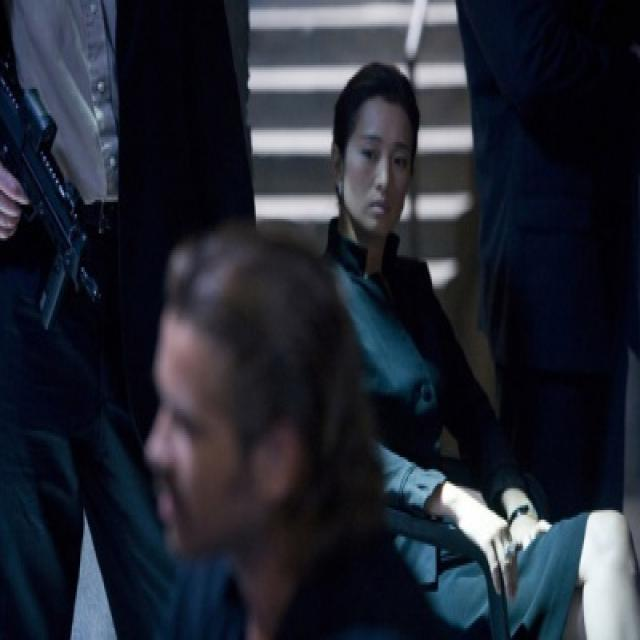rifle: (1, 62, 112, 335)
